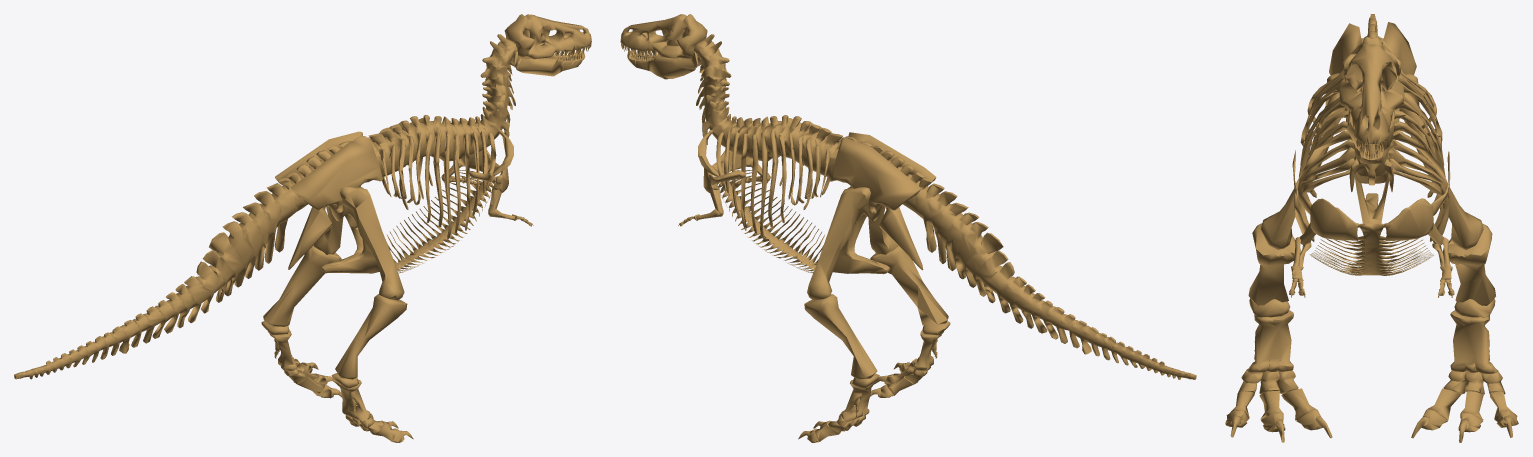
File: trex_skeleton.glb
The picture shows the model from 3 angles, left to right: view 1: azimuth 30°, elevation 25°; view 2: azimuth 150°, elevation 25°; view 3: azimuth 270°, elevation 25°; orthographic projection. The views are drawn at different scales.
Visible parts, largest first — view 1: Object_8, Object_3, Object_11, Object_2, Object_10, Object_9, Object_5, Object_6, Object_4, Object_12, Object_14, Object_7 (+1 smaller); view 2: Object_12, Object_3, Object_8, Object_11, Object_2, Object_10, Object_9, Object_5, Object_6, Object_4, Object_14, Object_7 (+1 smaller); view 3: Object_8, Object_11, Object_14, Object_7, Object_5, Object_10, Object_6, Object_12, Object_9, Object_4, Object_3, Object_2 (+1 smaller).
Part boxes in pixels (x1,y1,x2,y2): Object_8: (274, 127, 407, 426); Object_3: (100, 114, 513, 441); Object_11: (59, 116, 496, 418); Object_2: (222, 156, 533, 434); Object_10: (382, 115, 460, 239); Object_9: (288, 133, 397, 426); Object_5: (504, 14, 591, 59); Object_6: (385, 159, 499, 273); Object_4: (352, 34, 517, 430); Object_12: (14, 131, 413, 442); Object_14: (261, 321, 357, 407); Object_7: (92, 150, 523, 431); Object_12: (807, 137, 1196, 379); Object_3: (698, 114, 1110, 369); Object_8: (804, 128, 950, 416); Object_11: (716, 116, 1151, 397); Object_2: (731, 156, 988, 384); Object_10: (750, 115, 829, 239); Object_9: (813, 133, 937, 395); Object_5: (620, 14, 707, 58); Object_6: (712, 159, 824, 273); Object_4: (694, 34, 930, 372); Object_14: (798, 343, 936, 442); Object_7: (678, 150, 1118, 380); Object_8: (1246, 23, 1489, 394); Object_11: (1254, 130, 1495, 438); Object_14: (1411, 298, 1518, 442); Object_7: (1259, 150, 1454, 419); Object_5: (1339, 37, 1403, 152); Object_10: (1299, 79, 1445, 241); Object_6: (1310, 223, 1434, 275); Object_12: (1225, 22, 1483, 437); Object_9: (1254, 19, 1436, 420); Object_4: (1259, 84, 1394, 394); Object_3: (1229, 167, 1444, 418); Object_2: (1238, 14, 1383, 442).
Bounding box in the file's own units: 420 × 247 × 127.
